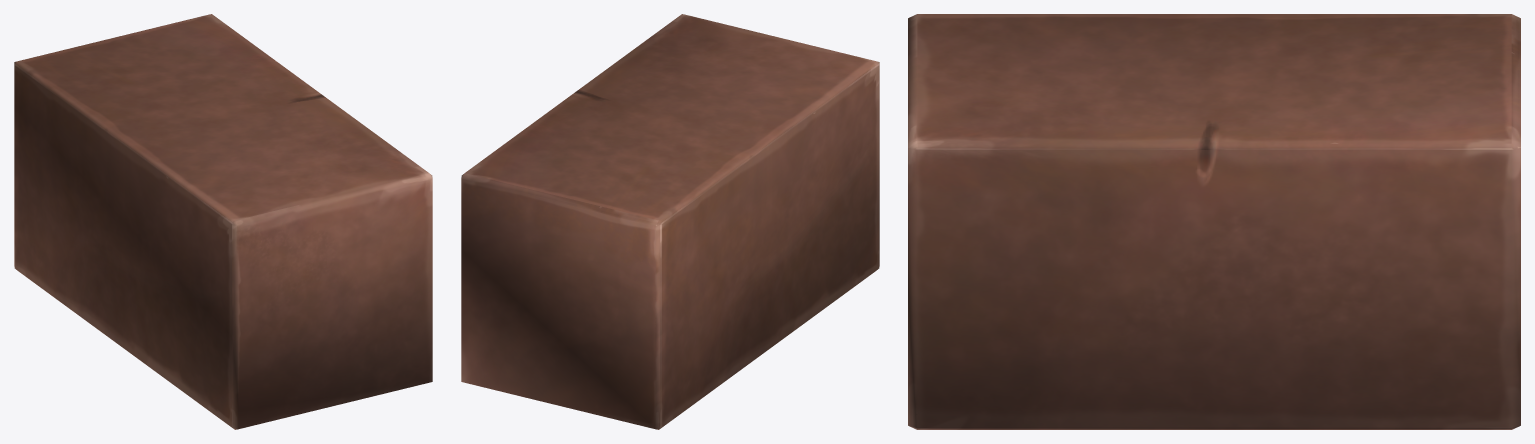
The model's file is redbrick3.fbx.
3 renders of one model, left to right at view 1: azimuth 30°, elevation 25°; view 2: azimuth 150°, elevation 25°; view 3: azimuth 270°, elevation 25°, orthographic. The views are drawn at different scales.
Visible parts, largest first — view 1: backup1; view 2: backup1; view 3: backup1.
Part boxes in pixels (bbox=[...]): backup1: bbox=[14, 14, 432, 429]; backup1: bbox=[461, 14, 879, 429]; backup1: bbox=[908, 14, 1520, 429].
Bounding box in the file's own units: 200 × 200 × 388.
